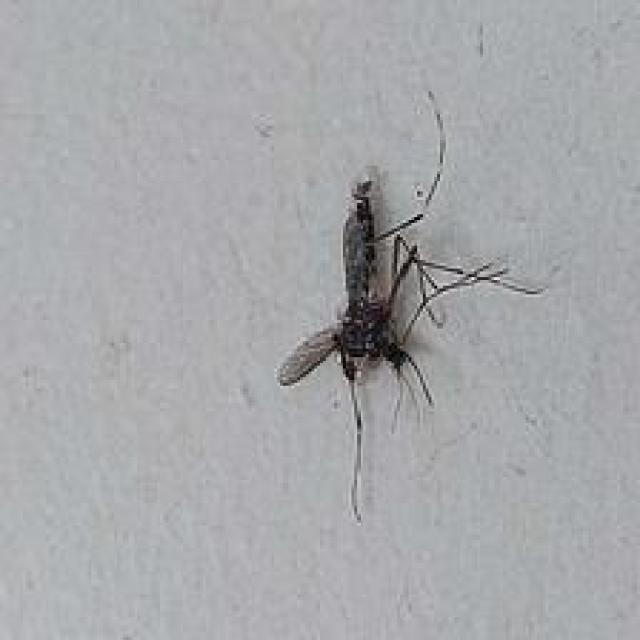Aedes albopictus: (274, 90, 546, 524)
